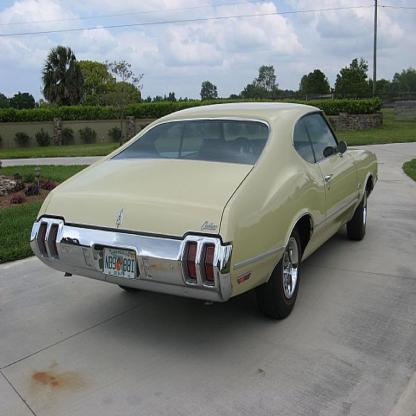Car: (30, 103, 378, 321)
